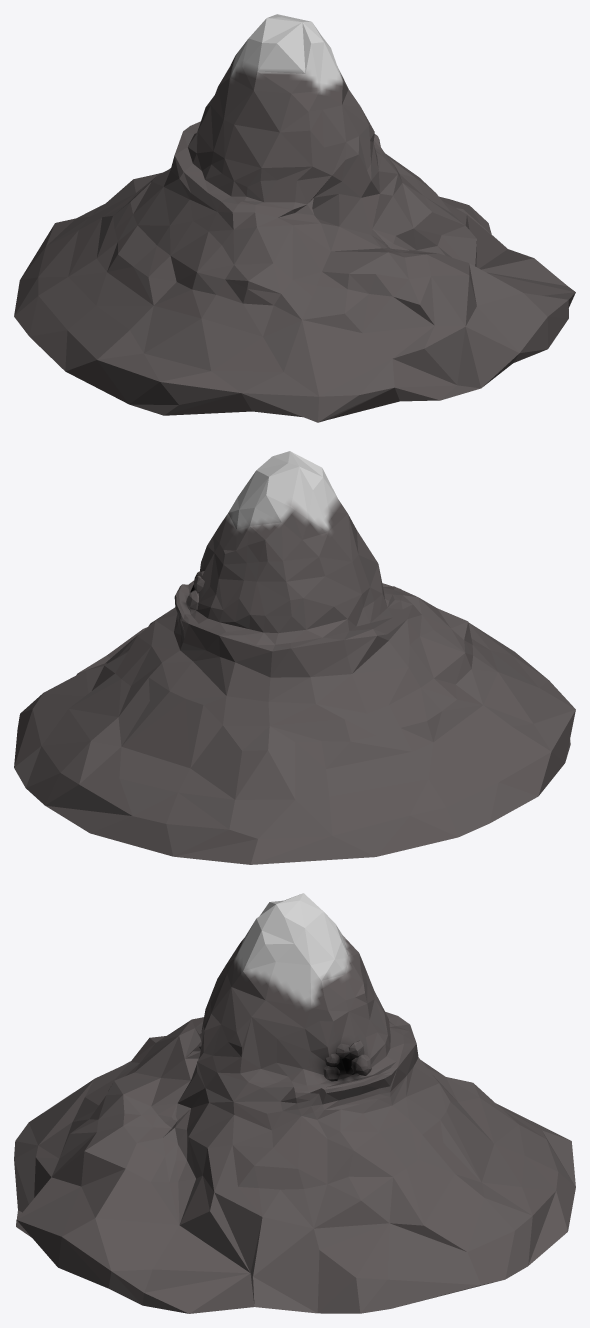
File: Mountain Path 3.fbx
3 renders of one model, top to bottom at view 1: azimuth 30°, elevation 25°; view 2: azimuth 150°, elevation 25°; view 3: azimuth 270°, elevation 25°, orthographic. The views are drawn at different scales.
Parts seen in each view (by area): view 1: Mountain_Path_3; view 2: Mountain_Path_3; view 3: Mountain_Path_3.
Boxes of the visible parts, x1,y1,x2,y2 form: Mountain_Path_3: (14,14,575,422); Mountain_Path_3: (14,451,575,864); Mountain_Path_3: (14,893,575,1313).
Bounding box in the file's own units: 65.43 × 39.5 × 65.82.
1 material, 1 textured.
